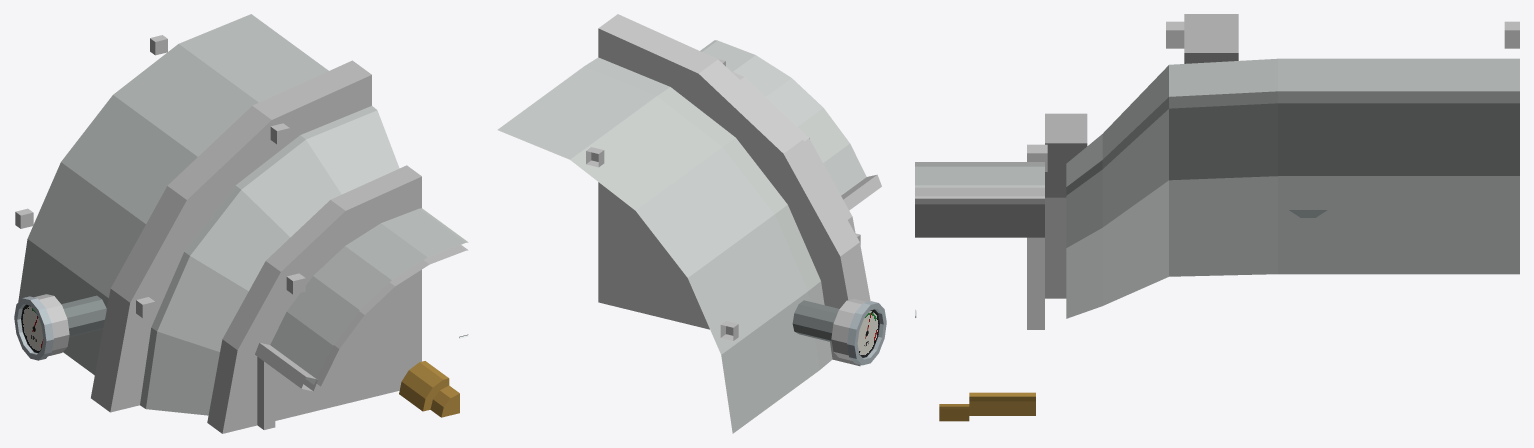
The model's file is cell_85.obj.
3 renders of one model, left to right at view 1: azimuth 30°, elevation 25°; view 2: azimuth 150°, elevation 25°; view 3: azimuth 270°, elevation 25°, orthographic. The views are drawn at different scales.
Bounding box in the file's own units: 0.789 × 0.695 × 1.
